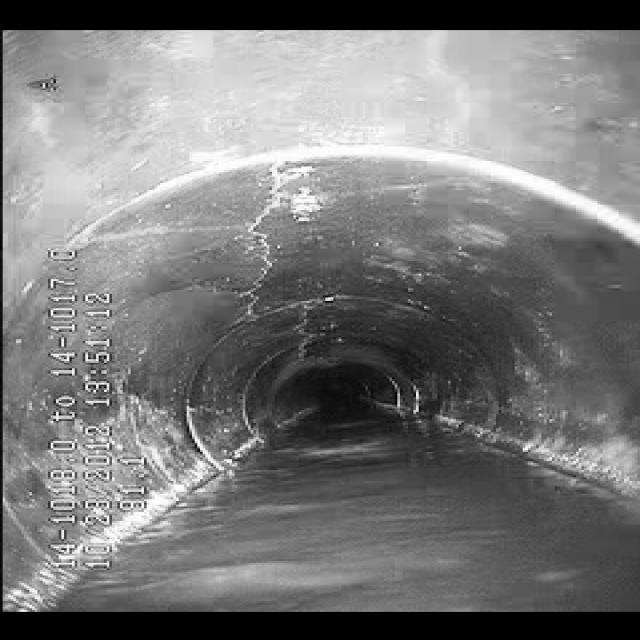Crack: (225, 190, 298, 320)
